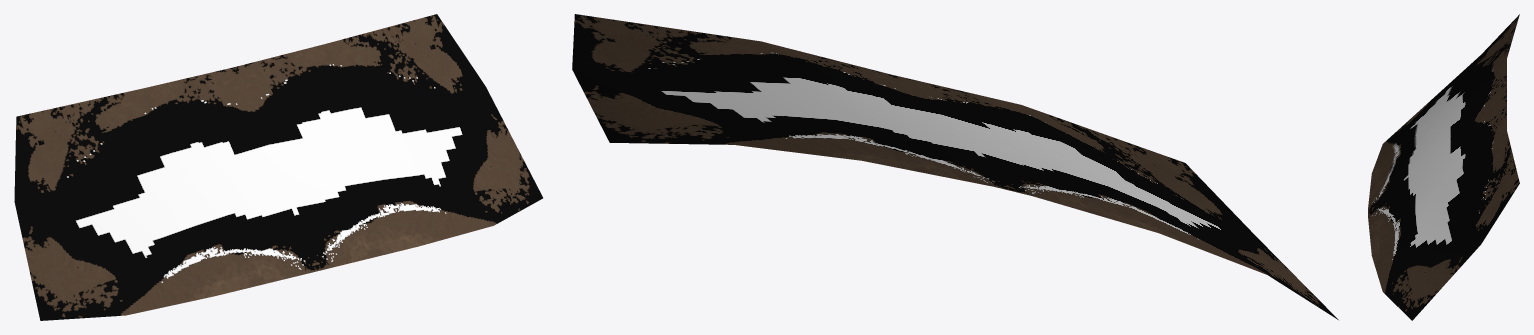
File: glass.fbx
The picture shows the model from 3 angles, left to right: view 1: azimuth 30°, elevation 25°; view 2: azimuth 150°, elevation 25°; view 3: azimuth 270°, elevation 25°; orthographic projection. The views are drawn at different scales.
Visible parts, largest first — view 1: glass inner; view 2: glass inner; view 3: glass inner.
Part boxes in pixels (x1=…): glass inner: x1=14, y1=14, x2=542, y2=320; glass inner: x1=572, y1=14, x2=1338, y2=319; glass inner: x1=1368, y1=14, x2=1519, y2=320.
Size of the model in its own units: 149 by 42.78 by 47.1.
